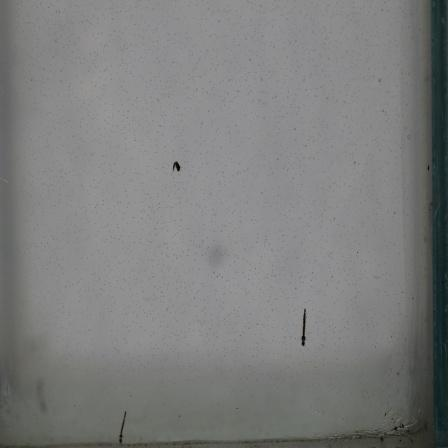Jentik-Nyamuk: (114, 407, 132, 448), (297, 306, 309, 349), (168, 156, 185, 178)
